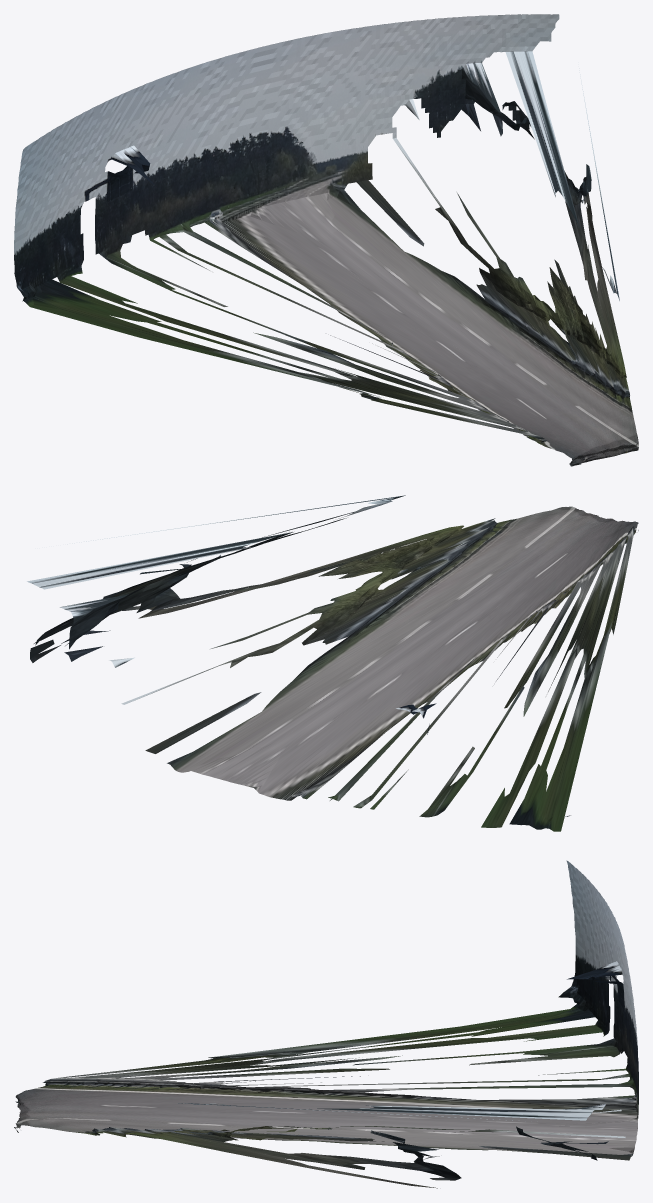
The picture shows the model from 3 angles, top to bottom: view 1: azimuth 30°, elevation 25°; view 2: azimuth 150°, elevation 25°; view 3: azimuth 270°, elevation 25°; orthographic projection. The views are drawn at different scales.
Parts seen in each view (by area): view 1: defaultobject; view 2: defaultobject; view 3: defaultobject.
Part boxes in pixels (<box>): defaultobject: <box>14,14,638,466</box>; defaultobject: <box>27,495,638,831</box>; defaultobject: <box>14,860,638,1188</box>.
Size of the model in its own units: 40.14 by 12.18 by 44.43.
1 material, 1 textured.
